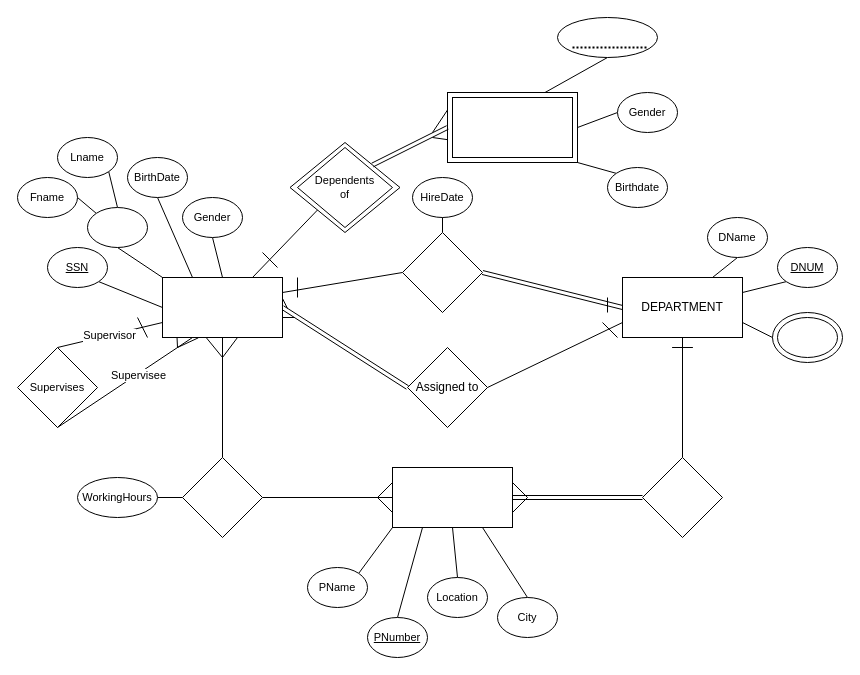
Some shapes in this 860 by 675 pixel diagram are drawn without their labels. Each missing label, with the box of its shape:
Controls: (642, 456, 722, 538)
DEPENDENT: (452, 96, 572, 158)
DependentName: (556, 16, 658, 58)
EMPLOYEE: (162, 276, 282, 338)
Locations: (776, 316, 838, 358)
Manages: (402, 232, 482, 312)
Name: (86, 206, 148, 248)
PROJECT: (392, 466, 512, 528)
Works on: (182, 456, 262, 538)
